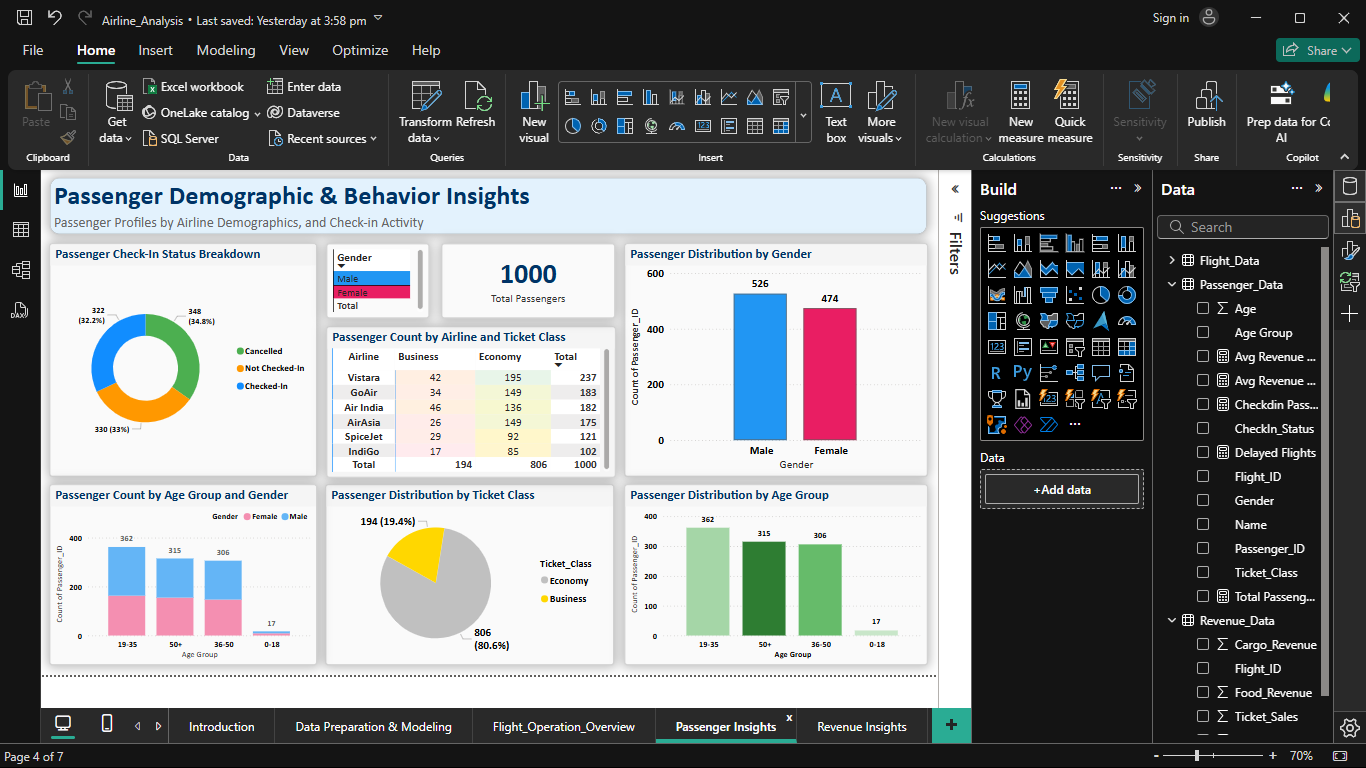

The page's visual inventory and layout, read from the dashboard file:
{"tool":"powerbi","page":{"name":"Passenger Insights","canvas":[1280,720],"ordinal":3},"visuals":[{"type":"textbox","title":"Passenger Demographic & Behavior Insights","box":[11.4,10,1254.3,82.8],"z":0},{"type":"pieChart","title":"Passenger Distribution by Ticket Class","fields":{"Category":["Passenger_Data.Ticket_Class"],"Y":["CountNonNull(Passenger_Data.Passenger_ID)"]},"box":[405.8,448.7,413,259.2],"z":1000},{"type":"donutChart","title":"Passenger Check-In Status Breakdown","fields":{"Category":["Passenger_Data.CheckIn_Status"],"Y":["CountNonNull(Passenger_Data.Passenger_ID)"]},"box":[10.7,103.7,382.6,334.3],"z":2000},{"type":"clusteredColumnChart","title":"Passenger Distribution by Gender","fields":{"Category":["Passenger_Data.Gender"],"Y":["CountNonNull(Passenger_Data.Passenger_ID)"]},"box":[831.3,103.7,434.4,334.3],"z":3000},{"type":"pivotTable","title":"Passenger Count by Airline and Ticket Class","fields":{"Values":["CountNonNull(Passenger_Data.Passenger_ID)"],"Columns":["Passenger_Data.Ticket_Class"],"Rows":["Flight_Data.Airline"]},"box":[406.5,222.2,413.5,216.6],"z":4000},{"type":"clusteredColumnChart","title":"Passenger Distribution by Age Group","fields":{"Category":["Passenger_Data.Age Group"],"Y":["CountNonNull(Passenger_Data.Passenger_ID)"]},"box":[831.3,448.7,434.4,259.2],"z":5000},{"type":"columnChart","title":"Passenger Count by Age Group and Gender","fields":{"Category":["Passenger_Data.Age Group"],"Y":["CountNonNull(Passenger_Data.Passenger_ID)"],"Series":["Passenger_Data.Gender"]},"box":[10.7,448.7,382.6,259.2],"z":6000},{"type":"card","fields":{"Values":["Passenger_Data.Total Passengers"]},"box":[571.1,104.1,249,108.3],"z":7000},{"type":"tableEx","fields":{"Values":["Passenger_Data.Gender"]},"box":[406.5,104.1,147.7,108.3],"z":8000}]}

Visuals, with their boxes on the page's 1280x720 design canvas (x1, y1, x2, y2). These are canvas units, not pixel positions in the 1366x768 screenshot, which may show the page scaled, cropped or inside an application window:
"Passenger Demographic & Behavior Insights" textbox: l=11, t=10, r=1266, b=93
"Passenger Distribution by Ticket Class" pieChart: l=406, t=449, r=819, b=708
"Passenger Check-In Status Breakdown" donutChart: l=11, t=104, r=393, b=438
"Passenger Distribution by Gender" clusteredColumnChart: l=831, t=104, r=1266, b=438
"Passenger Count by Airline and Ticket Class" pivotTable: l=406, t=222, r=820, b=439
"Passenger Distribution by Age Group" clusteredColumnChart: l=831, t=449, r=1266, b=708
"Passenger Count by Age Group and Gender" columnChart: l=11, t=449, r=393, b=708
card - Passenger_Data.Total Passengers: l=571, t=104, r=820, b=212
tableEx - Passenger_Data.Gender: l=406, t=104, r=554, b=212
